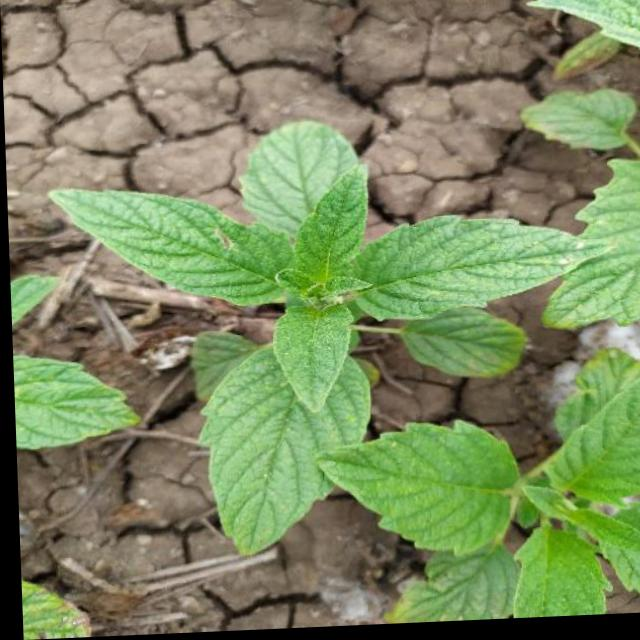crop: (48, 113, 586, 562), (311, 357, 640, 630)
